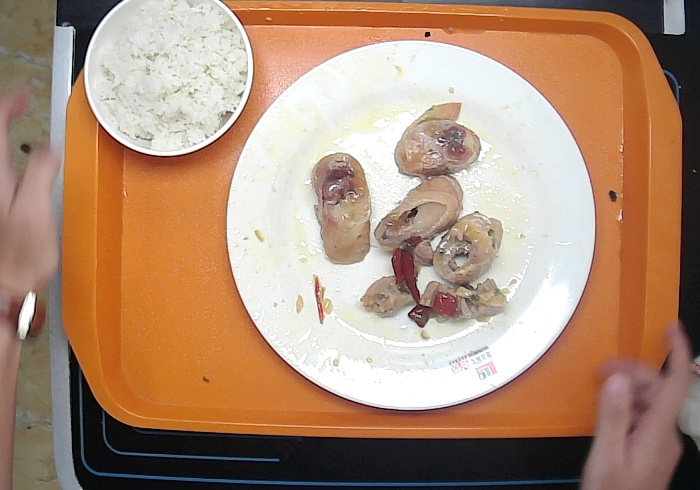ZNLD-Da_Yuan_Pan: (223, 37, 596, 410)
ZNLD-Fan_Wan: (81, 1, 256, 158)
